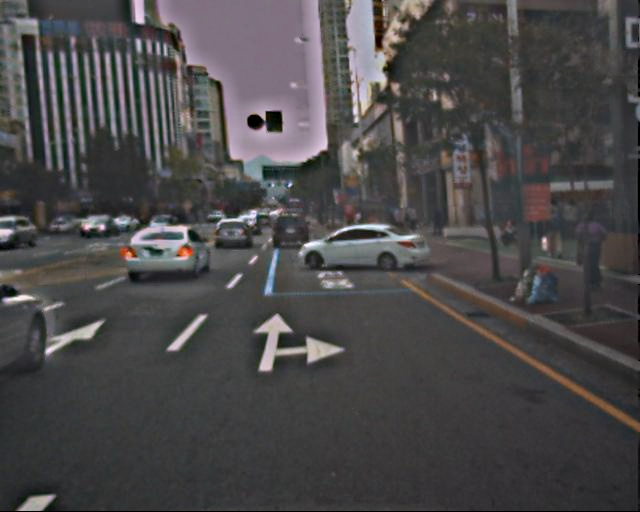person: (577, 211, 611, 293), (540, 196, 567, 261), (432, 208, 445, 240), (406, 202, 419, 233)
